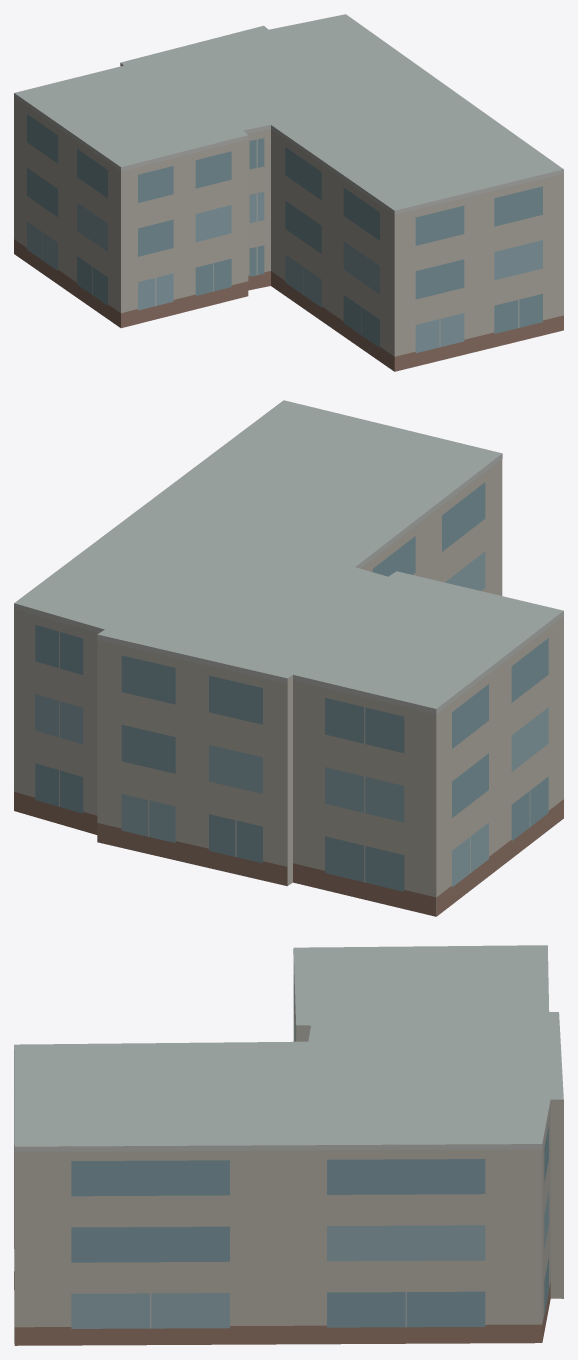
File: survey-upis-32764196.glb
The picture shows the model from 3 angles, top to bottom: view 1: azimuth 30°, elevation 25°; view 2: azimuth 150°, elevation 25°; view 3: azimuth 270°, elevation 25°; orthographic projection. The views are drawn at different scales.
Parts seen in each view (by area): view 1: survey-upis-32764196.tmp; view 2: survey-upis-32764196.tmp; view 3: survey-upis-32764196.tmp.
Part boxes in pixels (x1,y1,x2,y2): survey-upis-32764196.tmp: (14, 14, 563, 371); survey-upis-32764196.tmp: (14, 400, 563, 916); survey-upis-32764196.tmp: (14, 945, 563, 1345).
Size of the model in its own units: 19.88 by 9.15 by 22.91.
